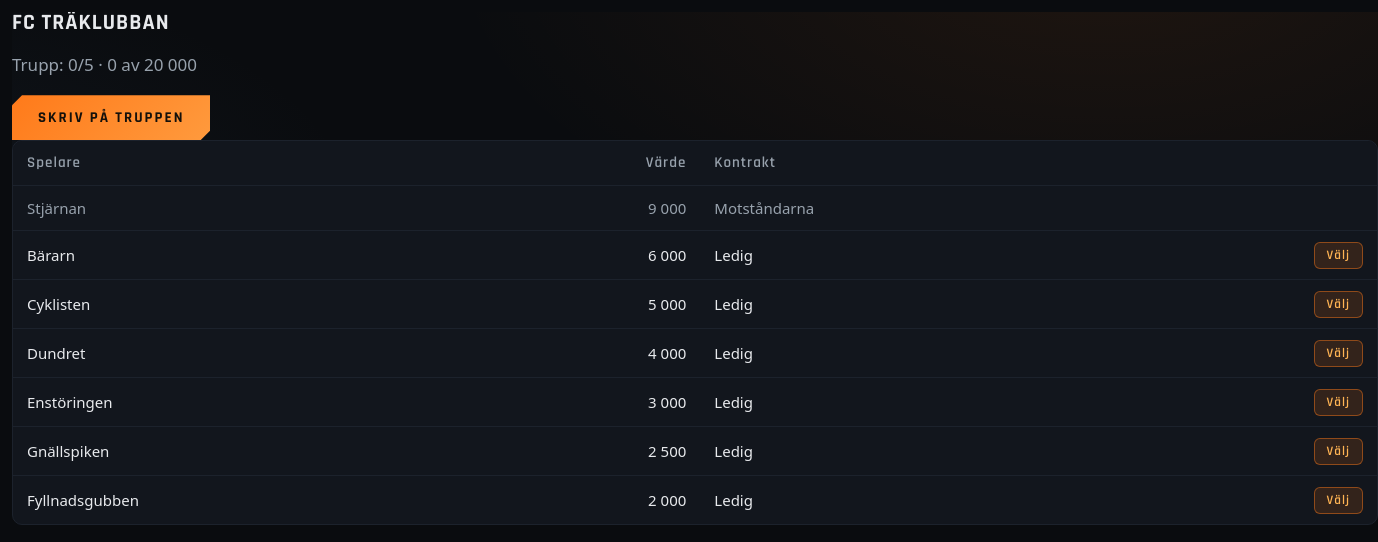
Test: SquadBuilder › counts picks and cost as players are selected
Click the button "Välj" in the row of "Bärarn".
click(1338, 256)  # box [1314,242,1363,269]
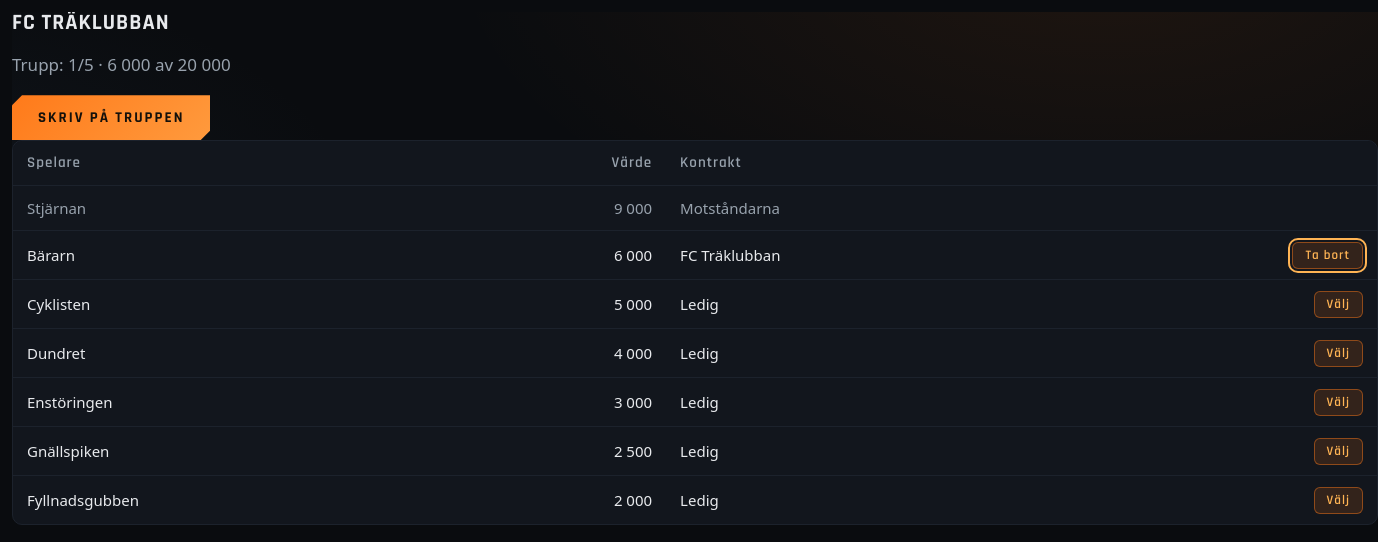
Click the button "Välj" in the row of "Cyklisten".
click(1338, 305)  # box [1314,291,1363,318]
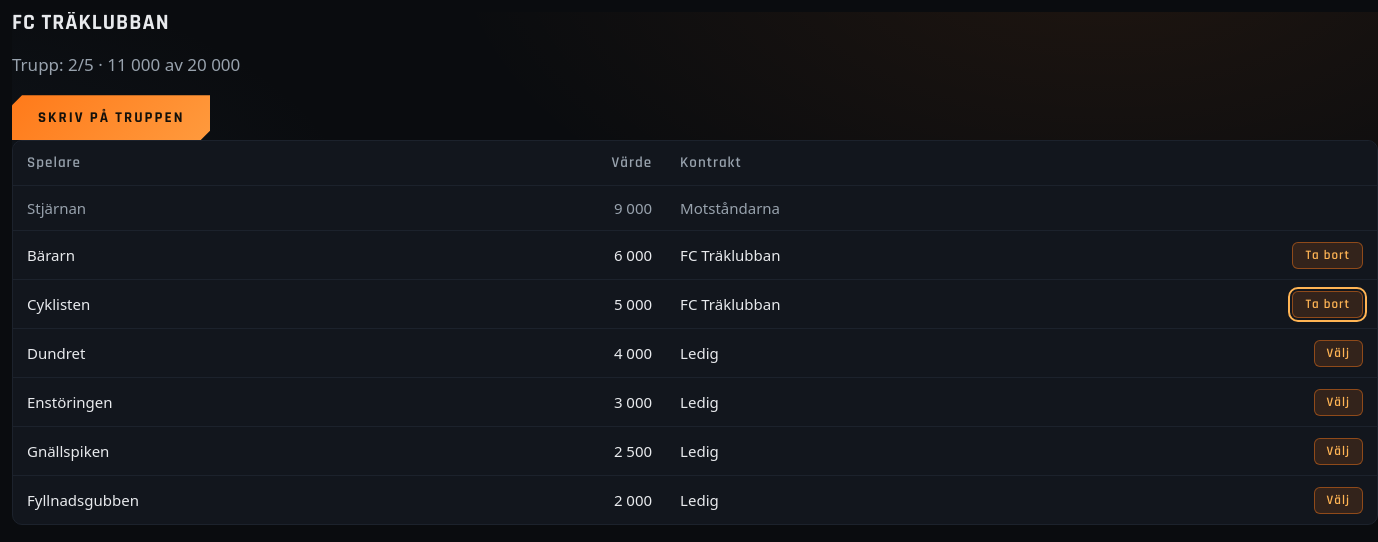
Check: the text "Trupp: 2/5 · 11 000 av 20 000" is shown, box [12,53,240,76]
